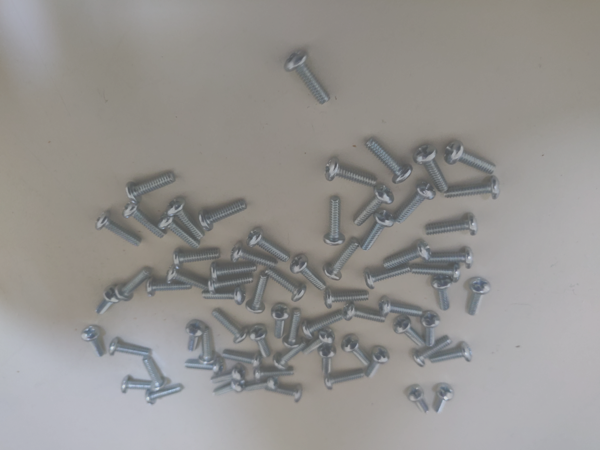shortscrew: (285, 51, 331, 106), (365, 137, 413, 184), (393, 181, 437, 224), (444, 140, 497, 175), (352, 184, 395, 227), (95, 211, 143, 248), (123, 200, 167, 239), (414, 144, 449, 193), (323, 239, 362, 281), (167, 198, 205, 241), (126, 172, 177, 204), (324, 157, 378, 187), (159, 212, 201, 249), (247, 228, 291, 263), (199, 200, 248, 231), (360, 209, 395, 252), (265, 267, 307, 302), (382, 240, 432, 269), (445, 175, 501, 200), (290, 254, 327, 291), (212, 308, 250, 344), (231, 241, 279, 268), (115, 267, 152, 302), (412, 336, 453, 367), (365, 263, 412, 290), (425, 213, 479, 236), (302, 310, 344, 339), (272, 340, 308, 371), (324, 196, 345, 248), (173, 248, 222, 270), (393, 315, 425, 348), (412, 262, 462, 283), (166, 267, 210, 290), (208, 273, 254, 295), (430, 341, 472, 365), (342, 334, 372, 367), (431, 247, 474, 270), (211, 261, 258, 282), (379, 297, 423, 319), (302, 327, 336, 355), (246, 271, 268, 314), (324, 289, 369, 309), (142, 356, 167, 392), (469, 277, 492, 316), (324, 370, 366, 391), (147, 279, 192, 298), (80, 324, 105, 358), (365, 346, 390, 380), (109, 338, 151, 358), (343, 303, 385, 323), (202, 287, 246, 306), (222, 349, 262, 369), (145, 384, 183, 405), (283, 310, 303, 349), (432, 275, 453, 311), (249, 325, 271, 359), (271, 303, 291, 339), (421, 312, 441, 347), (96, 287, 120, 316), (407, 386, 431, 414), (211, 365, 246, 384), (254, 367, 295, 383), (265, 386, 303, 403), (186, 320, 206, 352), (184, 359, 224, 375), (434, 383, 454, 414), (121, 376, 153, 395), (213, 379, 245, 397), (318, 344, 336, 374), (245, 377, 278, 393)
